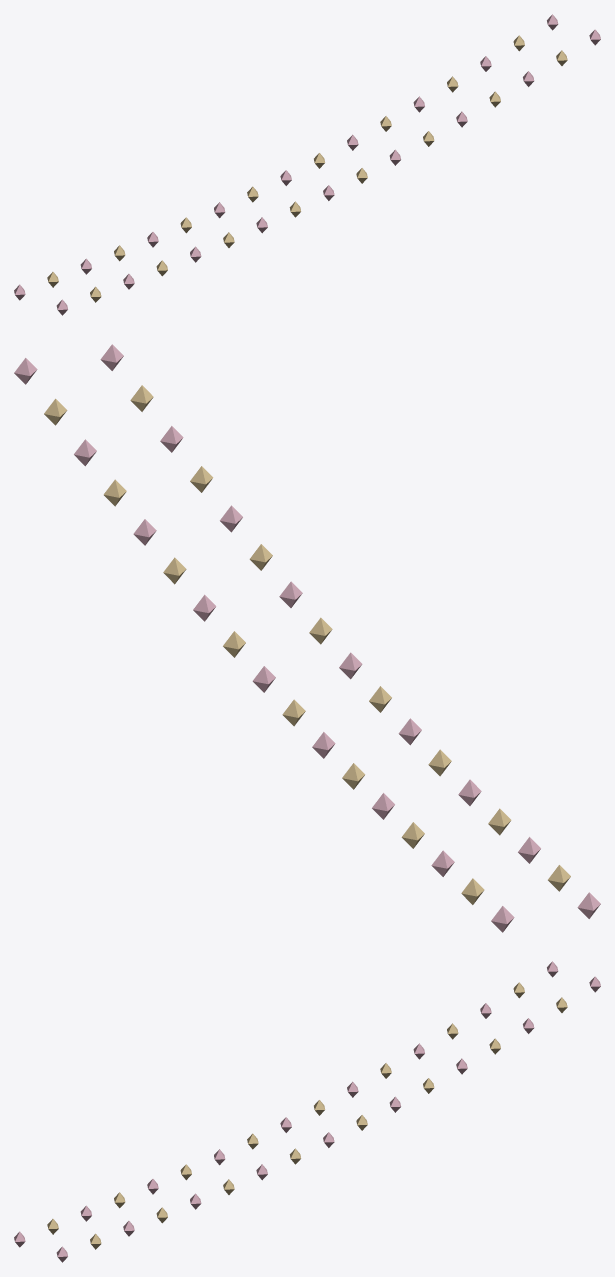
File: zon_diaryring_pinboard_raw.glb
3 views of the same model, one above another, from view 1: azimuth 90°, elevation 25°; view 2: azimuth 150°, elevation 25°; view 3: azimuth 270°, elevation 25° (orthographic). The views are drawn at different scales.
Parts seen in each view (by area): view 1: SM_zon_diaryring_pinboard_glow_vc_xm1_z0_raw; view 2: SM_zon_diaryring_pinboard_glow_vc_xm1_z0_raw; view 3: SM_zon_diaryring_pinboard_glow_vc_xm1_z0_raw.
Part boxes in pixels (left/top/right/bottom): SM_zon_diaryring_pinboard_glow_vc_xm1_z0_raw: left=14, top=14, right=600, bottom=315; SM_zon_diaryring_pinboard_glow_vc_xm1_z0_raw: left=14, top=344, right=600, bottom=932; SM_zon_diaryring_pinboard_glow_vc_xm1_z0_raw: left=14, top=961, right=600, bottom=1262.
Size of the model in its own units: 5.44 by 0.324 by 4.66.
